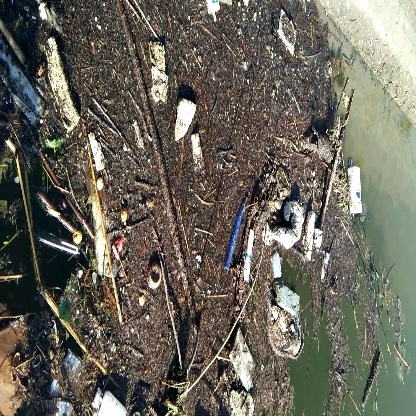milk-box: (345, 164, 372, 219)
